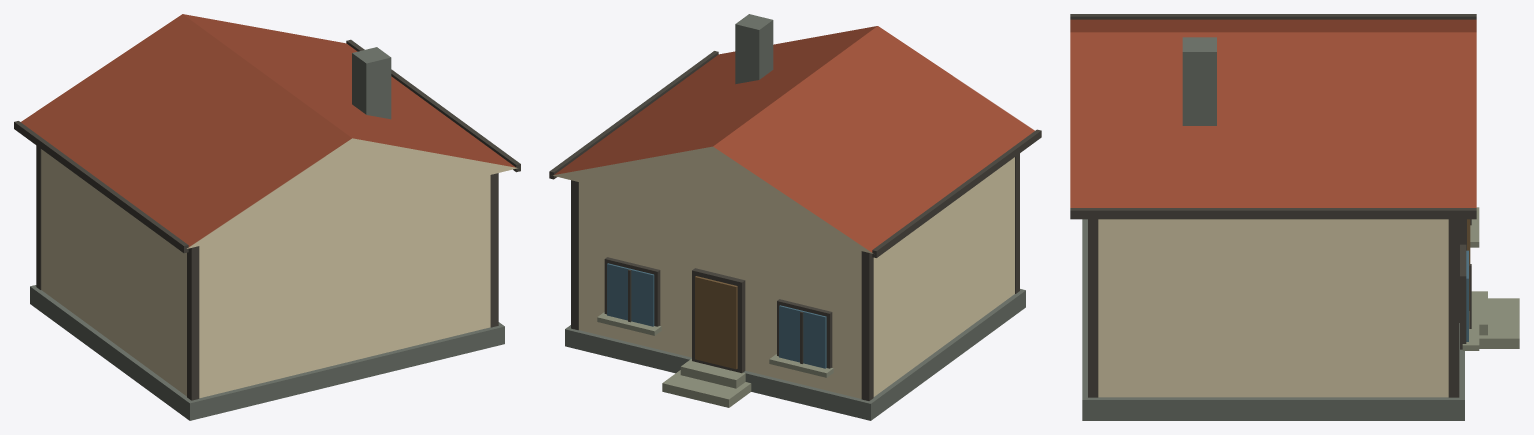
The model's file is house_rural_lod0.obj.
The picture shows the model from 3 angles, left to right: view 1: azimuth 30°, elevation 25°; view 2: azimuth 150°, elevation 25°; view 3: azimuth 270°, elevation 25°; orthographic projection. The views are drawn at different scales.
Visible parts, largest first — view 1: house_rural_lod0; view 2: house_rural_lod0; view 3: house_rural_lod0.
Boxes of the visible parts, <box> form: house_rural_lod0: <box>14,14,520,420</box>; house_rural_lod0: <box>549,14,1041,420</box>; house_rural_lod0: <box>1070,14,1519,420</box>.
Bounding box in the file's own units: 8.82 × 6.84 × 8.51.
1 material, 1 textured.
